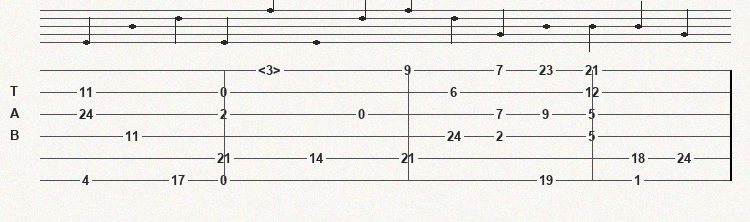0: (220, 173, 231, 187), (220, 85, 231, 99), (358, 107, 369, 121)
1: (634, 173, 645, 187)
11: (79, 85, 97, 99), (125, 129, 143, 143)
12: (585, 85, 603, 99)
14: (309, 151, 327, 165)
17: (171, 173, 189, 187)
18: (631, 151, 649, 165)
19: (539, 173, 557, 187)
2: (220, 107, 231, 121), (496, 129, 507, 143)
21: (217, 151, 235, 165), (401, 151, 419, 165), (585, 63, 603, 77)
23: (539, 63, 557, 77)
24: (79, 107, 97, 121), (447, 129, 465, 143), (677, 151, 695, 165)
4: (82, 173, 93, 187)
5: (588, 107, 599, 121), (588, 129, 599, 143)
6: (450, 85, 461, 99)
7: (496, 107, 507, 121), (496, 63, 507, 77)
9: (404, 63, 415, 77), (542, 107, 553, 121)
harmonic: (258, 63, 285, 77)
